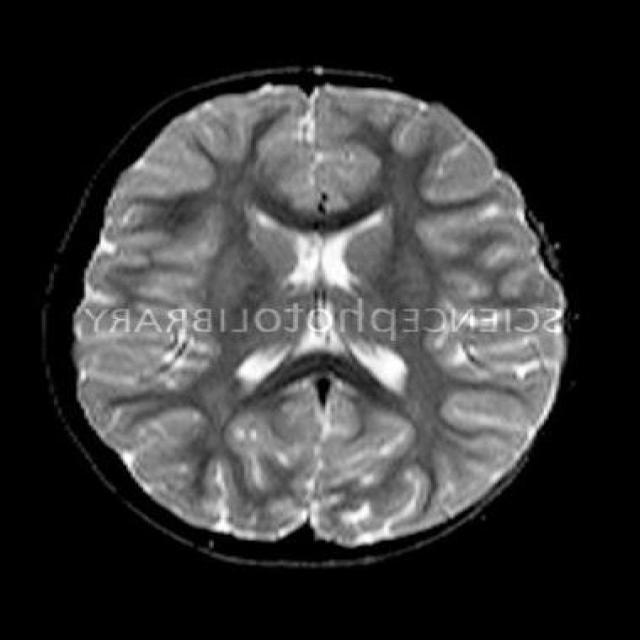notumor: (42, 68, 568, 565)
